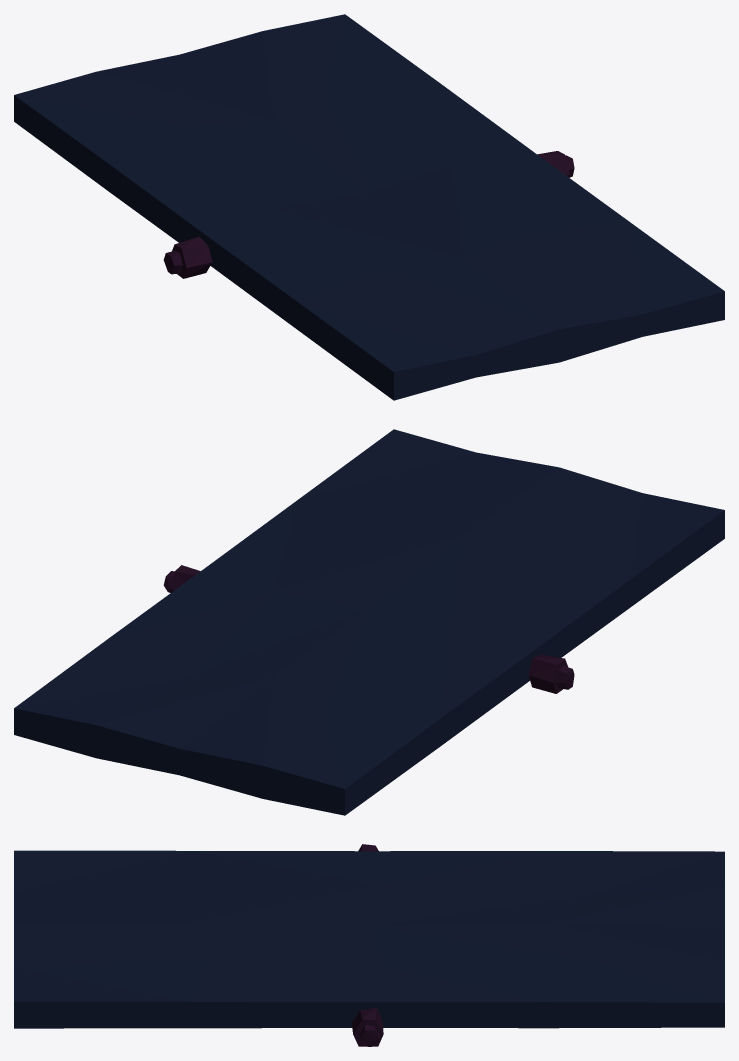
Rendered from obstacle_seesaw_pivot.FBX.
3 views of the same model, one above another, from view 1: azimuth 30°, elevation 25°; view 2: azimuth 150°, elevation 25°; view 3: azimuth 270°, elevation 25° (orthographic). The views are drawn at different scales.
Parts seen in each view (by area): view 1: seesaw_pivot; view 2: seesaw_pivot; view 3: seesaw_pivot.
Boxes of the visible parts, <box> form: seesaw_pivot: <box>14,14,724,400</box>; seesaw_pivot: <box>14,429,724,815</box>; seesaw_pivot: <box>14,844,724,1046</box>.
Size of the model in its own units: 4.88 by 0.4842 by 8.
